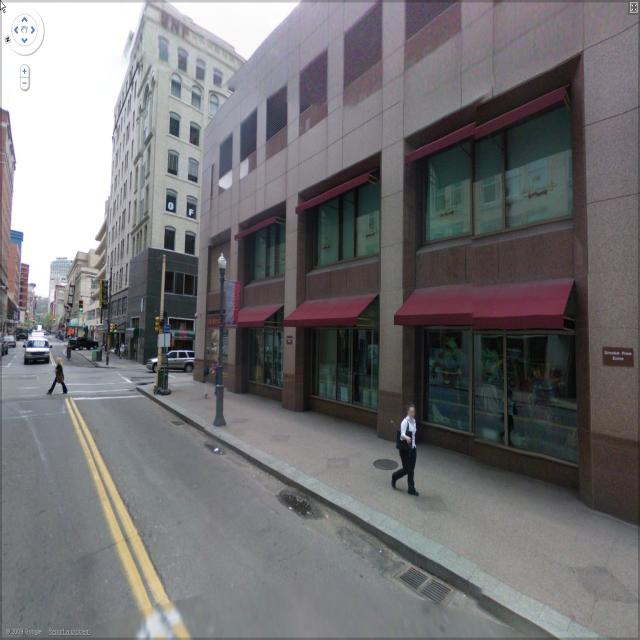window: (474, 111, 574, 240), (476, 338, 576, 458), (314, 328, 388, 414), (415, 328, 477, 430), (420, 147, 474, 235), (340, 176, 390, 262), (308, 200, 352, 278), (250, 220, 294, 286), (250, 336, 290, 396), (156, 37, 174, 69), (163, 192, 183, 216), (182, 230, 198, 260), (188, 122, 204, 152), (189, 88, 207, 114), (165, 224, 178, 258), (188, 196, 202, 227), (167, 154, 181, 185), (186, 158, 199, 190), (166, 111, 182, 134), (177, 48, 189, 73), (198, 60, 208, 86), (169, 82, 183, 96), (215, 66, 223, 90)
